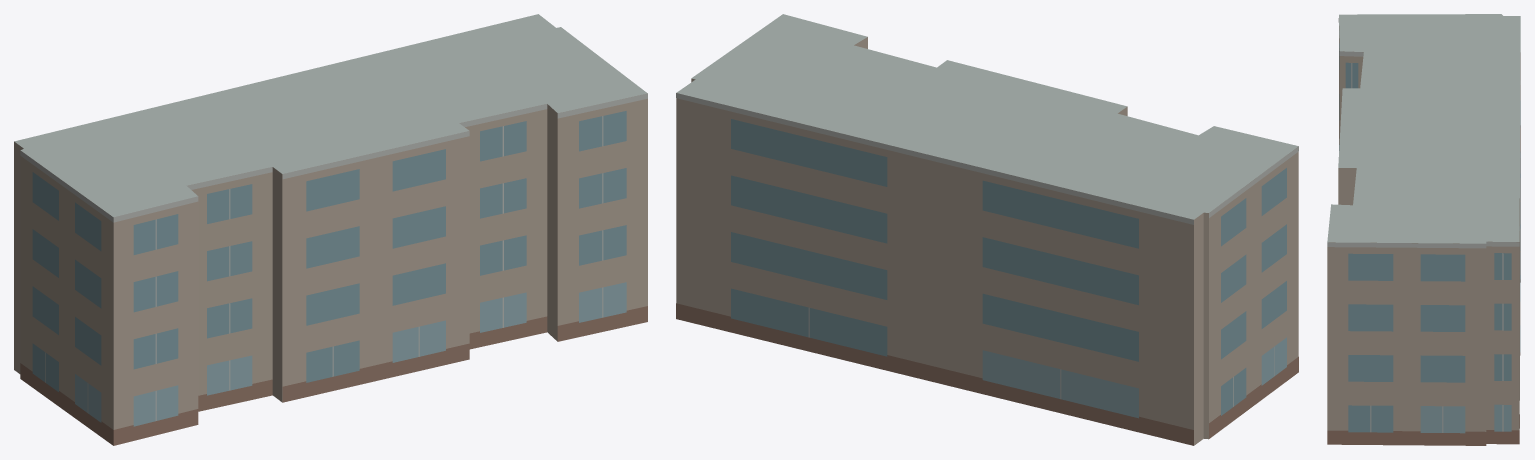
Rendered from survey-upis-32775384.glb.
3 views of the same model, side by side, from view 1: azimuth 30°, elevation 25°; view 2: azimuth 150°, elevation 25°; view 3: azimuth 270°, elevation 25° (orthographic). The views are drawn at different scales.
Visible parts, largest first — view 1: survey-upis-32775384.tmp; view 2: survey-upis-32775384.tmp; view 3: survey-upis-32775384.tmp.
Part boxes in pixels (box(x1,y1,x2,y2)): survey-upis-32775384.tmp: box(14, 14, 647, 445); survey-upis-32775384.tmp: box(676, 14, 1298, 445); survey-upis-32775384.tmp: box(1327, 14, 1520, 445).
Bounding box in the file's own units: 25.58 × 10.5 × 9.11.
